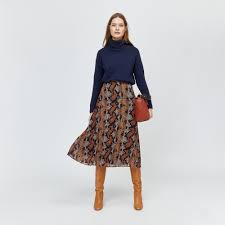C_skirt: (65, 78, 146, 178)
